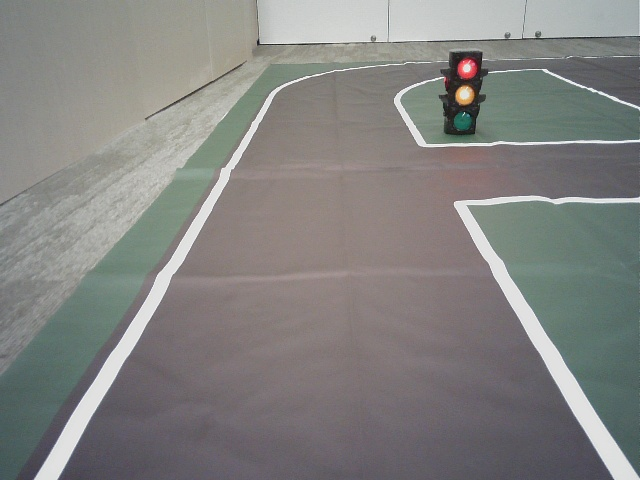red: (448, 57, 475, 130)
